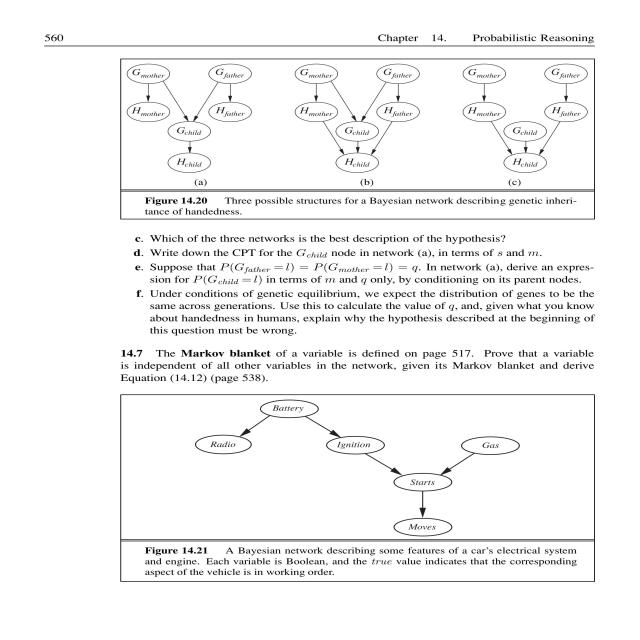diagram: (94, 383, 640, 626), (115, 59, 640, 220)
